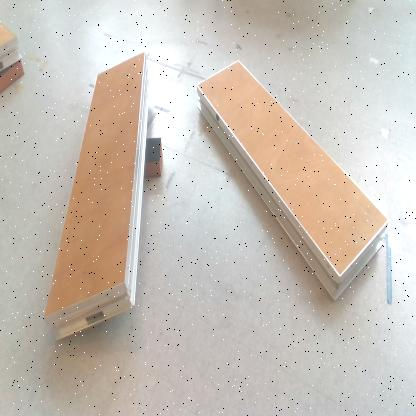Stairs: (195, 59, 391, 305), (44, 49, 152, 346), (1, 20, 23, 74)
